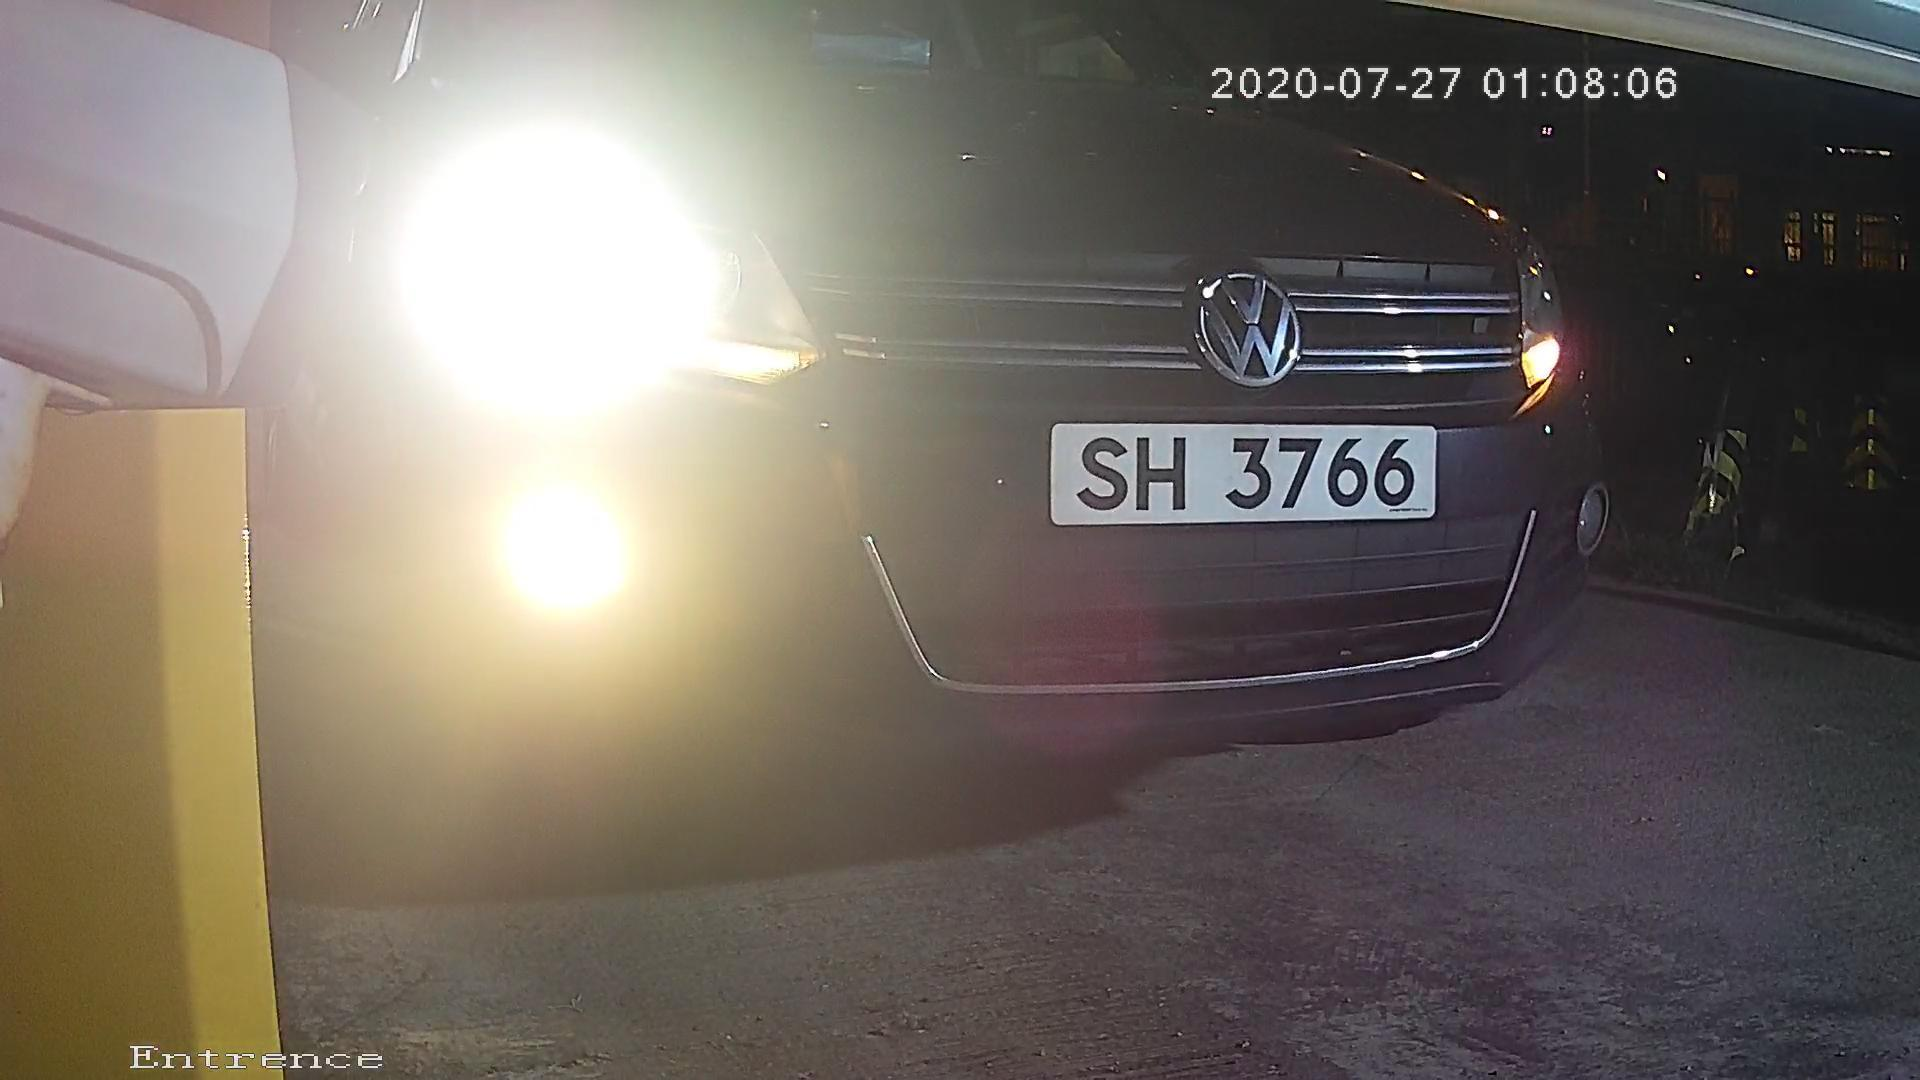License Plate: (1029, 401, 1466, 545)
